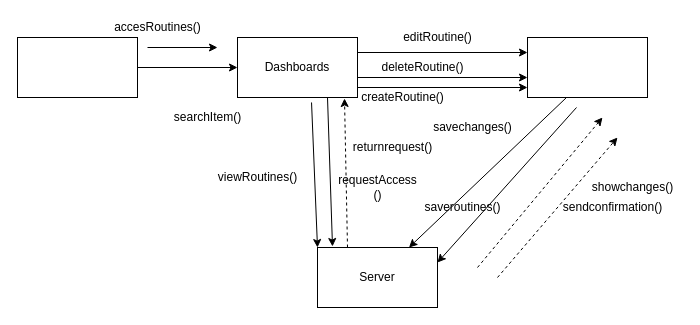
This 700x325 diagram has some shape labels left out. The shapes that lost their labels are listed below. From the top down, each one's centre as x and y in pixels, then its label:
At point (77, 67): "Trainer Page".
At point (587, 67): "Routines".
